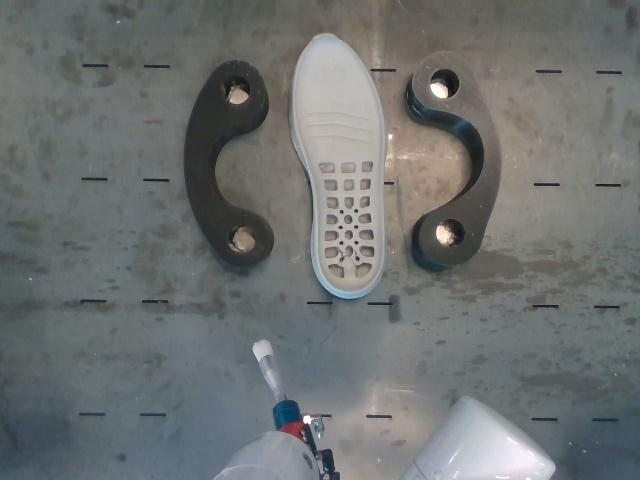shoes: (295, 34, 384, 293)
